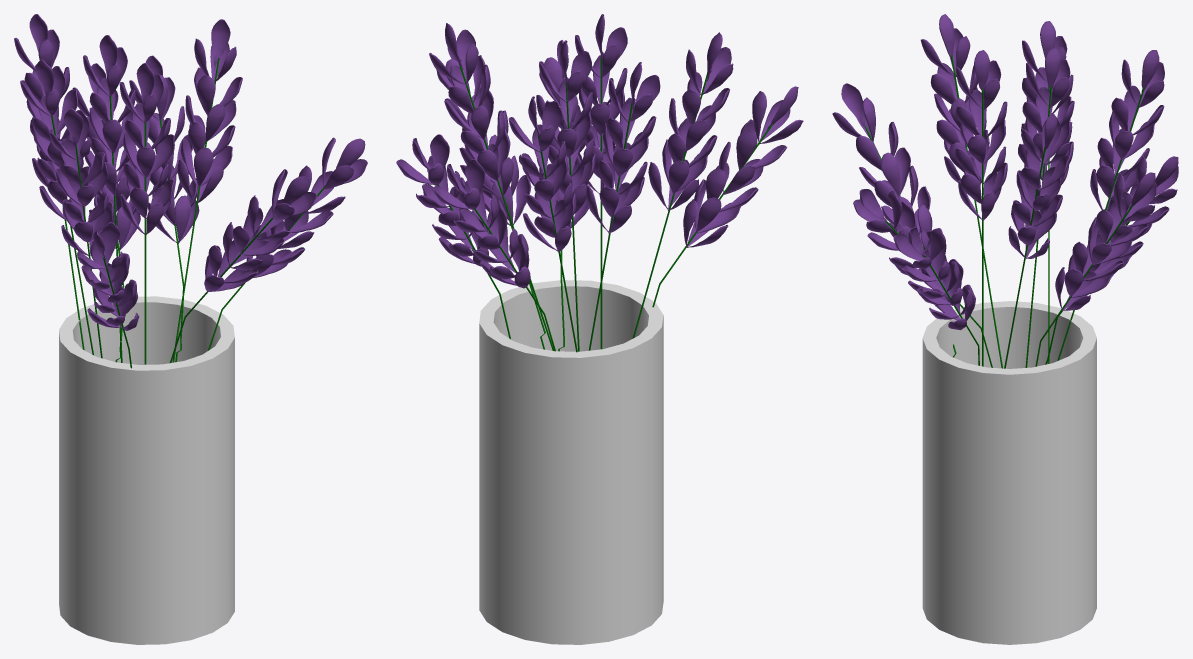
File: lavanda.fbx
The picture shows the model from 3 angles, left to right: view 1: azimuth 30°, elevation 25°; view 2: azimuth 150°, elevation 25°; view 3: azimuth 270°, elevation 25°; orthographic projection. The views are drawn at different scales.
Visible parts, largest first — view 1: coisas:vaso_com_lavanda:pCylinder16, coisas:vaso_com_lavanda:pCube262, coisas:vaso_com_lavanda:pCube260, coisas:vaso_com_lavanda:pCube261, coisas:vaso_com_lavanda:pCube259, coisas:vaso_com_lavanda:pCube258, coisas:vaso_com_lavanda:pCube20, coisas:vaso_com_lavanda:pCylinder4, coisas:vaso_com_lavanda:pCube104, coisas:vaso_com_lavanda:pCube88; view 2: coisas:vaso_com_lavanda:pCylinder16, coisas:vaso_com_lavanda:pCube261, coisas:vaso_com_lavanda:pCube258, coisas:vaso_com_lavanda:pCube259, coisas:vaso_com_lavanda:pCube260, coisas:vaso_com_lavanda:pCube262, coisas:vaso_com_lavanda:pCylinder4; view 3: coisas:vaso_com_lavanda:pCylinder16, coisas:vaso_com_lavanda:pCube259, coisas:vaso_com_lavanda:pCube261, coisas:vaso_com_lavanda:pCube260, coisas:vaso_com_lavanda:pCube262, coisas:vaso_com_lavanda:pCube258.
Boxes of the visible parts, x1,y1,x2,y2 form: coisas:vaso_com_lavanda:pCylinder16: (59,296,234,644); coisas:vaso_com_lavanda:pCube262: (169,169,317,363); coisas:vaso_com_lavanda:pCube260: (208,137,367,350); coisas:vaso_com_lavanda:pCube261: (77,222,139,368); coisas:vaso_com_lavanda:pCube259: (129,55,199,362); coisas:vaso_com_lavanda:pCube258: (72,63,140,362); coisas:vaso_com_lavanda:pCube20: (211,19,230,69); coisas:vaso_com_lavanda:pCylinder4: (144,120,146,364); coisas:vaso_com_lavanda:pCube104: (194,147,213,186); coisas:vaso_com_lavanda:pCube88: (197,75,215,114); coisas:vaso_com_lavanda:pCylinder16: (479,280,663,644); coisas:vaso_com_lavanda:pCube261: (652,86,803,307); coisas:vaso_com_lavanda:pCube258: (432,159,555,351); coisas:vaso_com_lavanda:pCube259: (396,134,510,339); coisas:vaso_com_lavanda:pCube260: (436,47,545,349); coisas:vaso_com_lavanda:pCube262: (536,40,593,351); coisas:vaso_com_lavanda:pCylinder4: (600,55,602,349); coisas:vaso_com_lavanda:pCylinder16: (922,301,1096,644); coisas:vaso_com_lavanda:pCube259: (1035,172,1156,366); coisas:vaso_com_lavanda:pCube261: (832,83,956,357); coisas:vaso_com_lavanda:pCube260: (893,227,979,365); coisas:vaso_com_lavanda:pCube262: (853,189,992,367); coisas:vaso_com_lavanda:pCube258: (1045,156,1178,364).
Bounding box in the file's own units: 1993 × 3330 × 1894.
